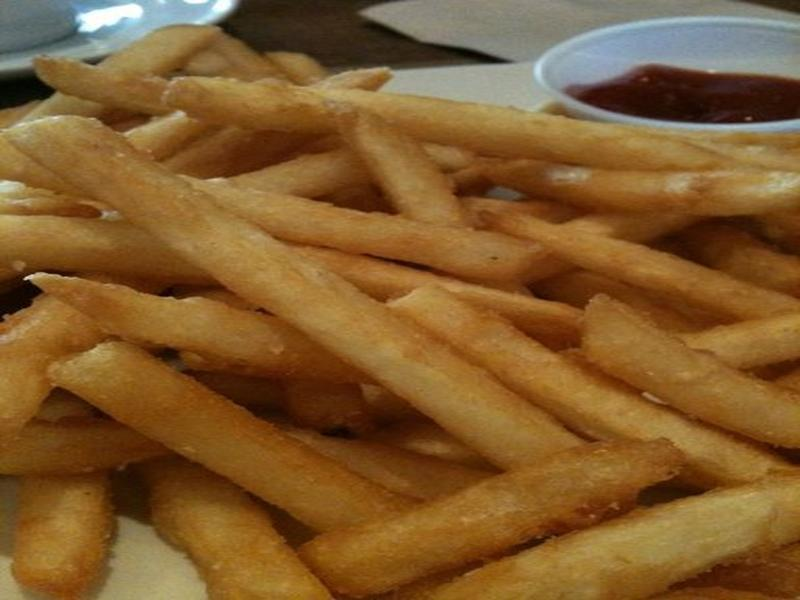french_fries: (31, 28, 800, 578)
